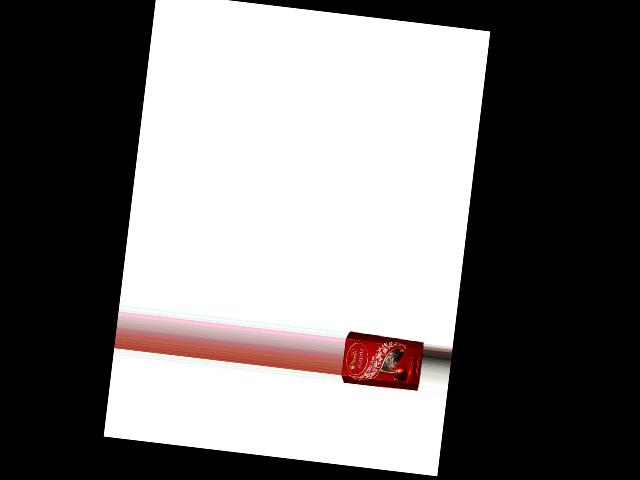chocolate: (340, 330, 425, 395)
